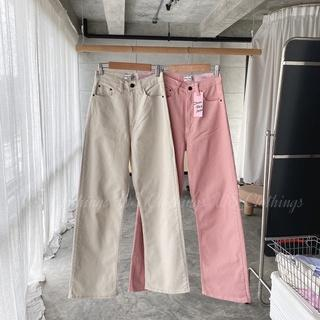pants: (129, 63, 255, 306), (65, 64, 190, 303)
